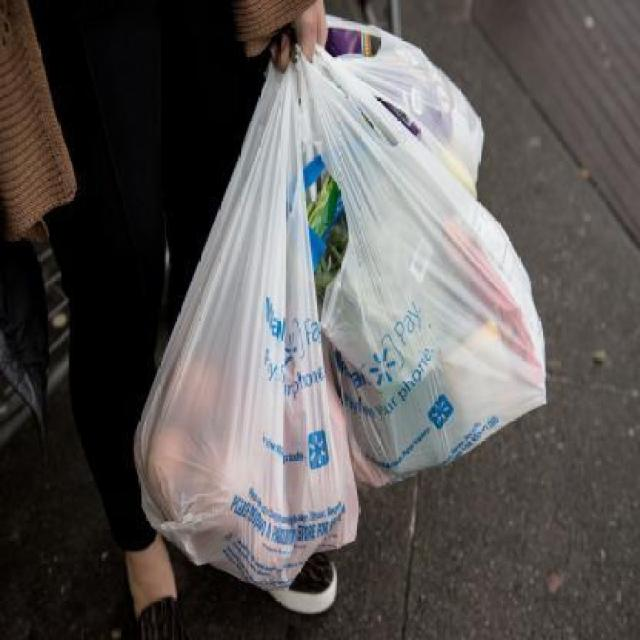plastic bag: (128, 28, 364, 613), (283, 60, 555, 511), (314, 12, 490, 186)
